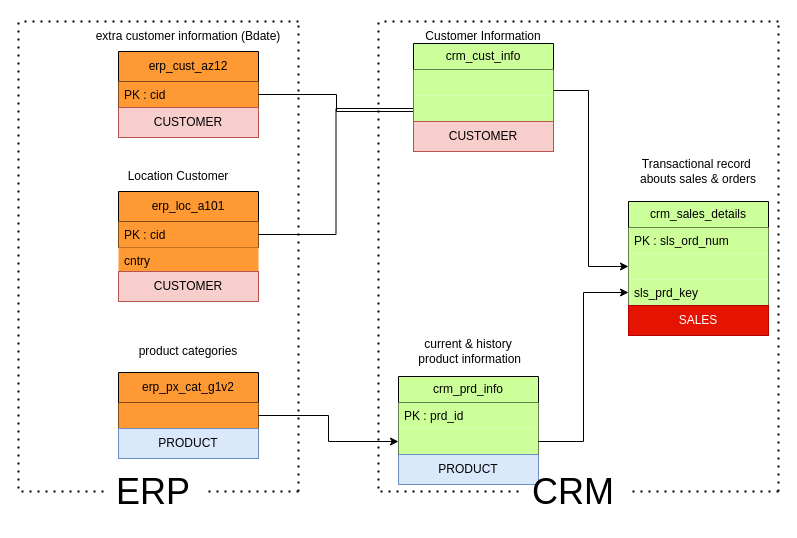
Some shapes in this 797 by 538 pixel diagram are drawn without their labels. The centre of each missing label's shape, as x and y in pixels:
"cst_key" goes at [483,108].
"PK : cst_id" goes at [483,82].
"PK : id" goes at [188,415].
"prd_key" goes at [468,441].
"sls_cust_id" goes at [698,266].
